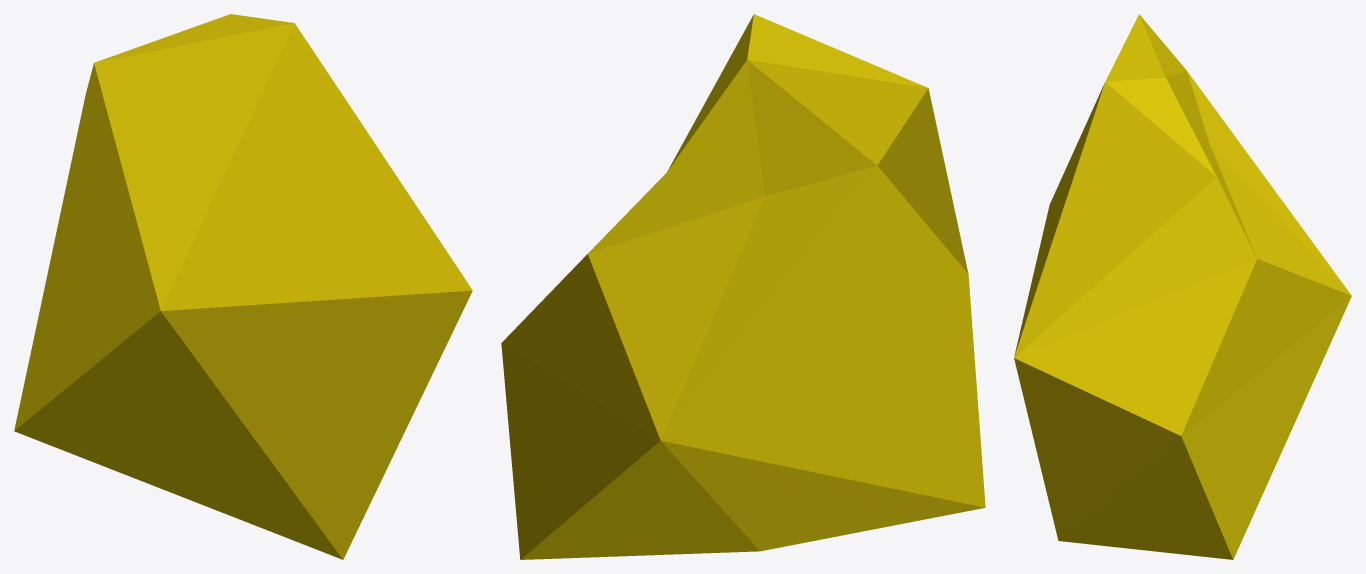
The model's file is Gem_05.glb.
The picture shows the model from 3 angles, left to right: view 1: azimuth 30°, elevation 25°; view 2: azimuth 150°, elevation 25°; view 3: azimuth 270°, elevation 25°; orthographic projection. The views are drawn at different scales.
Parts seen in each view (by area): view 1: Gem_05; view 2: Gem_05; view 3: Gem_05.
Boxes of the visible parts, x1,y1,x2,y2 form: Gem_05: [14, 14, 472, 559]; Gem_05: [501, 14, 985, 559]; Gem_05: [1014, 14, 1351, 559].
Bounding box in the file's own units: 0.1052 × 0.1201 × 0.0817.
